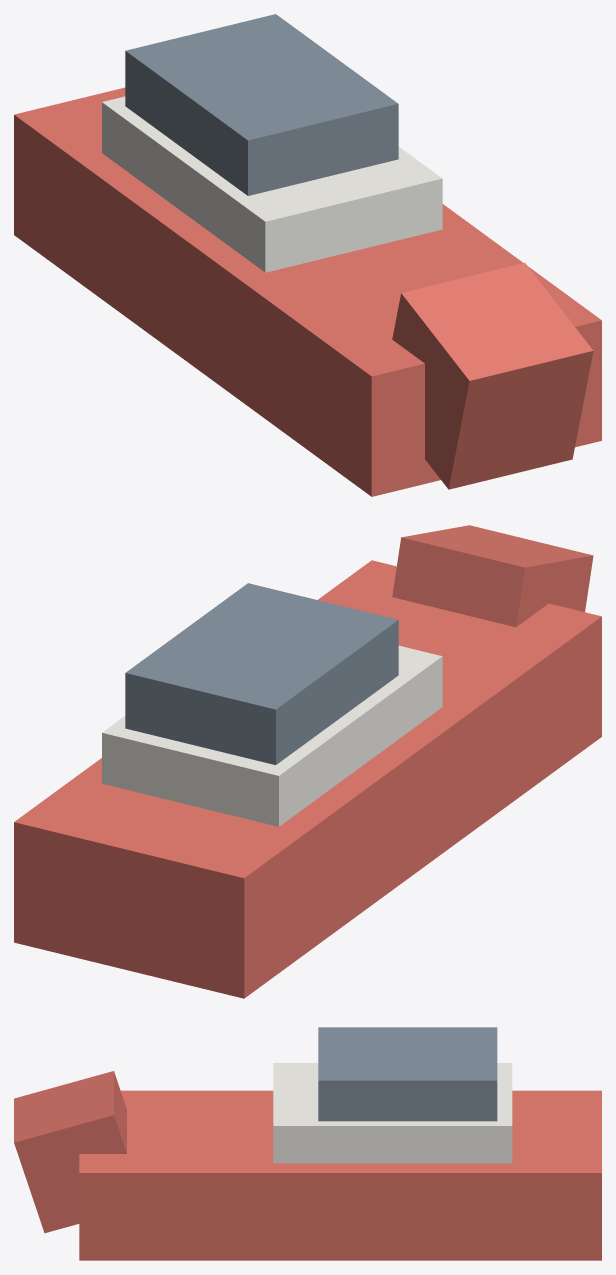
Rendered from boat_motor.glb.
The picture shows the model from 3 angles, top to bottom: view 1: azimuth 30°, elevation 25°; view 2: azimuth 150°, elevation 25°; view 3: azimuth 270°, elevation 25°; orthographic projection. The views are drawn at different scales.
Visible parts, largest first — view 1: boat_motor; view 2: boat_motor; view 3: boat_motor.
Part boxes in pixels (x1,y1,x2,y2): boat_motor: (14,14,601,496); boat_motor: (14,525,601,998); boat_motor: (14,1027,601,1260).
Size of the model in its own units: 2.6 by 2.45 by 7.87.
